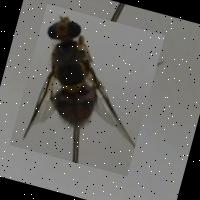Oriental-fruit-fly: (9, 3, 166, 176)
